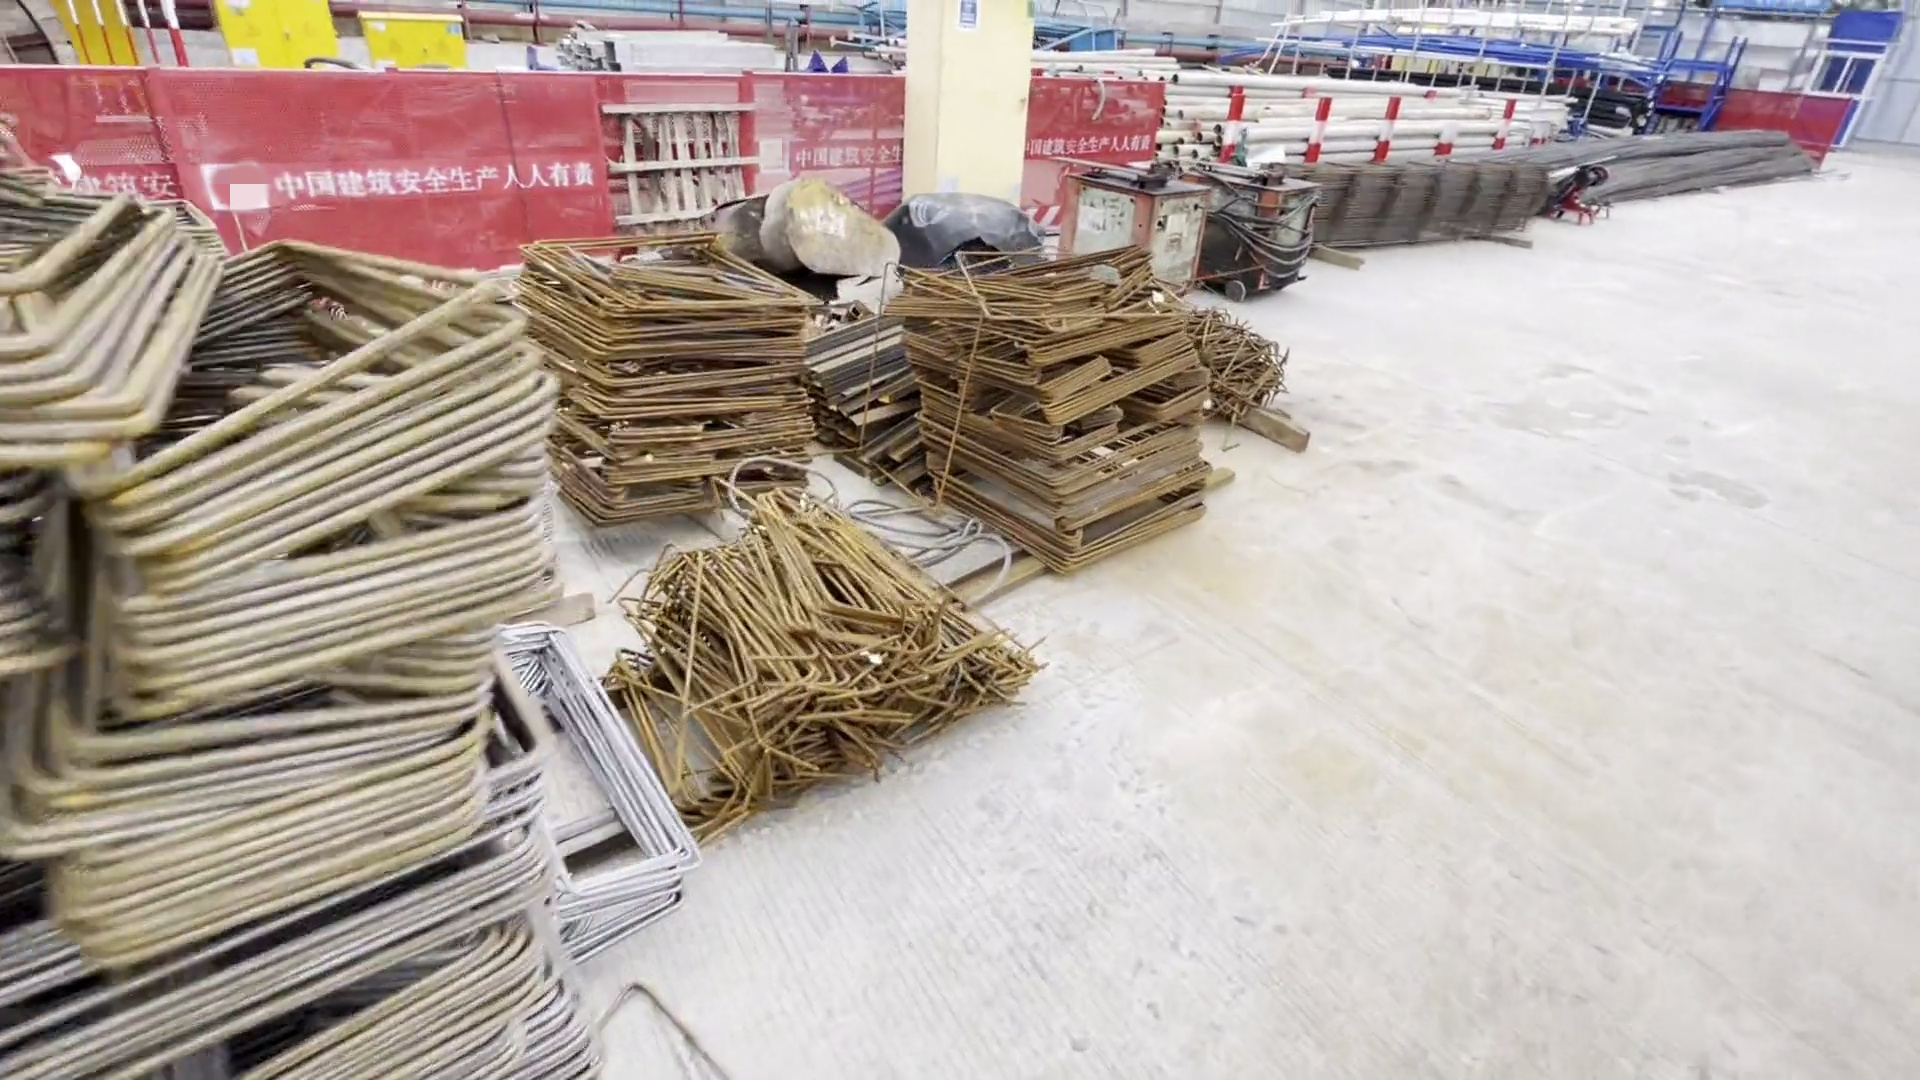cutter: (1549, 164, 1640, 237)
ebox: (891, 1, 1034, 219), (222, 1, 348, 73), (363, 11, 487, 69)
fence: (8, 69, 897, 256), (998, 75, 1163, 170)
rebar: (1458, 128, 1832, 223)
